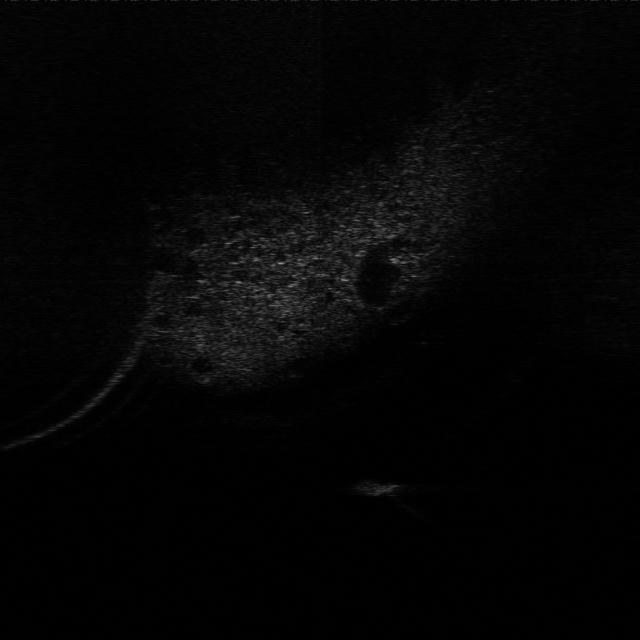cube: (357, 468, 407, 501)
